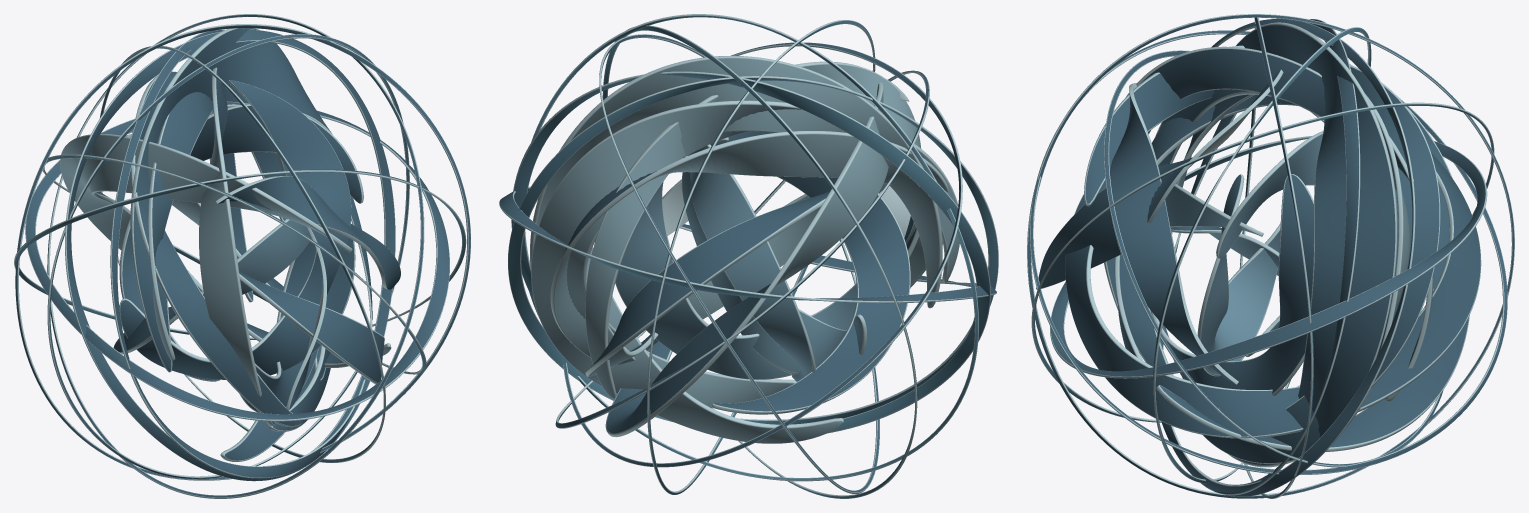
File: D32Steel_Finished.fbx
3 renders of one model, left to right at view 1: azimuth 30°, elevation 25°; view 2: azimuth 150°, elevation 25°; view 3: azimuth 270°, elevation 25°, orthographic. The views are drawn at different scales.
Visible parts, largest first — view 1: 宽带_01_纵向折转.001, 外环_01_主轮廓.001, 宽带_04_后侧层叠.001, 外环_03_横向薄带.001, 宽带_06_顶部弧片.001, 主片_01_斜向尖带.001, 宽带_03_侧向内弯.001, 宽带_02_横向翻卷.001, 内带_03_中间竖片.001, 外环_02_倾斜轮廓.001, 细环_01.001, 宽带_05_下方回环.001 (+9 smaller); view 2: 宽带_01_纵向折转.001, 宽带_02_横向翻卷.001, 内带_04_背面弧片.001, 宽带_04_后侧层叠.001, 宽带_03_侧向内弯.001, 外环_01_主轮廓.001, 宽带_06_顶部弧片.001, 宽带_05_下方回环.001, 外环_02_倾斜轮廓.001, 内带_01_正面斜片.001, 内带_02_右侧折片.001, 细环_02.001 (+9 smaller); view 3: 宽带_01_纵向折转.001, 宽带_05_下方回环.001, 宽带_04_后侧层叠.001, 宽带_03_侧向内弯.001, 宽带_06_顶部弧片.001, 主片_02_交叉翻卷.001, 外环_03_横向薄带.001, 内带_01_正面斜片.001, 内带_03_中间竖片.001, 外环_02_倾斜轮廓.001, 细环_05.001, 宽带_02_横向翻卷.001 (+9 smaller).
Part boxes in pixels (x1,y1,x2,y2): 宽带_01_纵向折转.001: [130, 28, 332, 461]; 外环_01_主轮廓.001: [65, 29, 395, 481]; 宽带_04_后侧层叠.001: [60, 134, 391, 367]; 外环_03_横向薄带.001: [25, 110, 449, 421]; 宽带_06_顶部弧片.001: [199, 67, 274, 426]; 主片_01_斜向尖带.001: [228, 80, 351, 410]; 宽带_03_侧向内弯.001: [131, 71, 325, 427]; 宽带_02_横向翻卷.001: [148, 92, 330, 431]; 内带_03_中间竖片.001: [119, 238, 355, 379]; 外环_02_倾斜轮廓.001: [110, 29, 372, 478]; 细环_01.001: [15, 24, 470, 480]; 宽带_05_下方回环.001: [126, 134, 384, 384]; 宽带_01_纵向折转.001: [530, 56, 942, 443]; 宽带_02_横向翻卷.001: [531, 100, 959, 407]; 内带_04_背面弧片.001: [683, 131, 910, 414]; 宽带_04_后侧层叠.001: [605, 82, 888, 437]; 宽带_03_侧向内弯.001: [550, 131, 948, 364]; 外环_01_主轮廓.001: [511, 71, 990, 433]; 宽带_06_顶部弧片.001: [585, 61, 921, 398]; 宽带_05_下方回环.001: [585, 183, 887, 376]; 外环_02_倾斜轮廓.001: [508, 76, 998, 424]; 内带_01_正面斜片.001: [615, 181, 856, 379]; 内带_02_右侧折片.001: [687, 144, 816, 381]; 细环_02.001: [529, 14, 978, 481]; 宽带_01_纵向折转.001: [1171, 22, 1397, 467]; 宽带_05_下方回环.001: [1065, 152, 1481, 438]; 宽带_04_后侧层叠.001: [1084, 45, 1469, 451]; 宽带_03_侧向内弯.001: [1114, 64, 1440, 387]; 宽带_06_顶部弧片.001: [1104, 46, 1433, 401]; 主片_02_交叉翻卷.001: [1110, 83, 1238, 384]; 外环_03_横向薄带.001: [1050, 136, 1487, 378]; 内带_01_正面斜片.001: [1151, 174, 1313, 395]; 内带_03_中间竖片.001: [1197, 174, 1280, 376]; 外环_02_倾斜轮廓.001: [1150, 18, 1415, 496]; 细环_05.001: [1027, 14, 1514, 498]; 宽带_02_横向翻卷.001: [1155, 55, 1409, 463].
Bounding box in the file's own units: 209 × 213 × 209.
